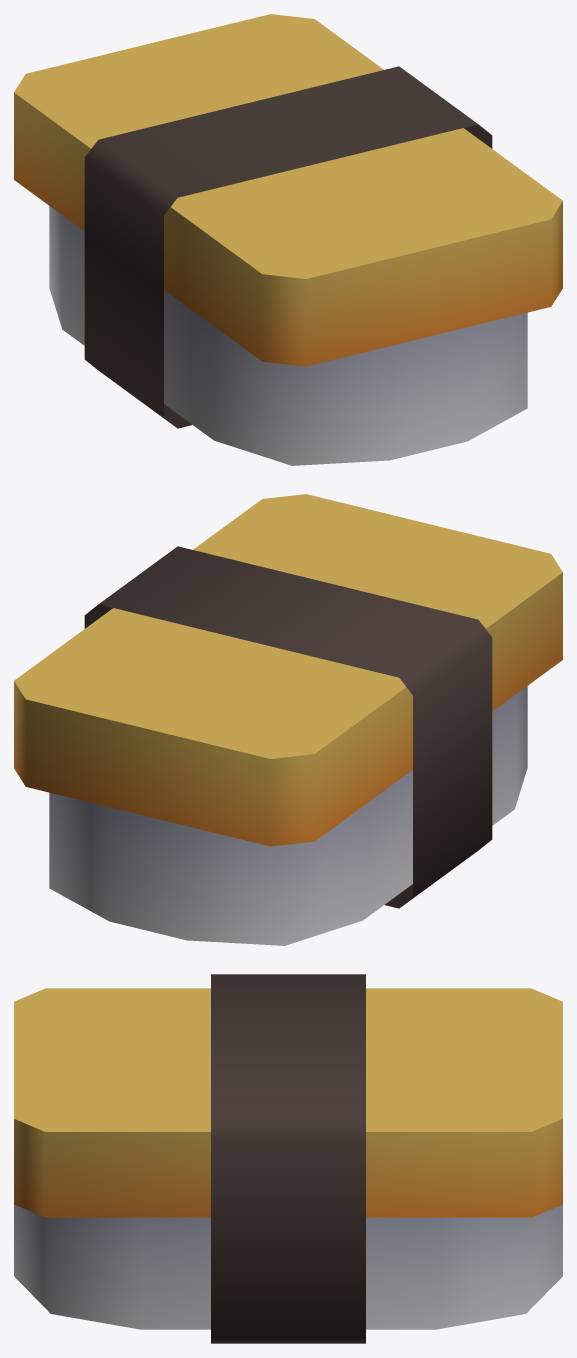
File: sushi-egg.glb
The picture shows the model from 3 angles, top to bottom: view 1: azimuth 30°, elevation 25°; view 2: azimuth 150°, elevation 25°; view 3: azimuth 270°, elevation 25°; orthographic projection. The views are drawn at different scales.
Parts seen in each view (by area): view 1: sushi-egg; view 2: sushi-egg; view 3: sushi-egg.
Boxes of the visible parts, x1,y1,x2,y2 form: sushi-egg: (14, 14, 562, 465); sushi-egg: (14, 494, 562, 945); sushi-egg: (14, 974, 562, 1343).
Size of the model in its own units: 0.1179 by 0.0792 by 0.1743.
